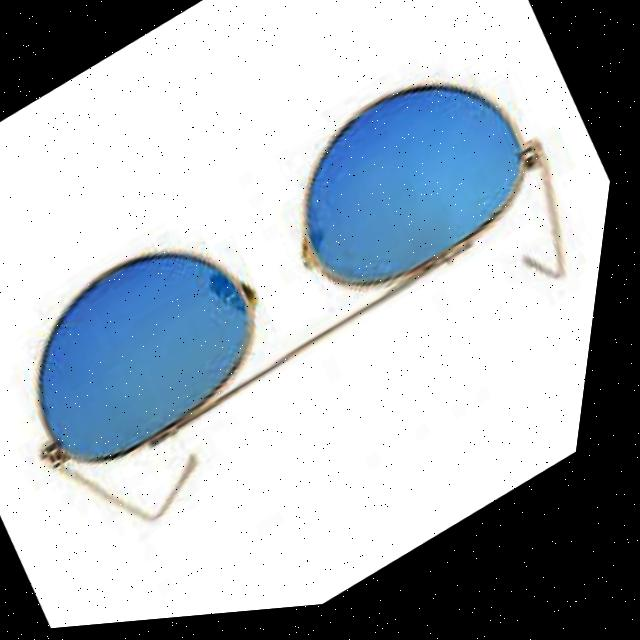gozluk: (0, 5, 605, 532)
